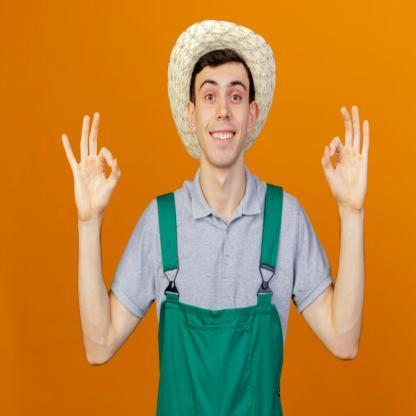ok: (60, 108, 122, 224), (320, 99, 372, 218)
